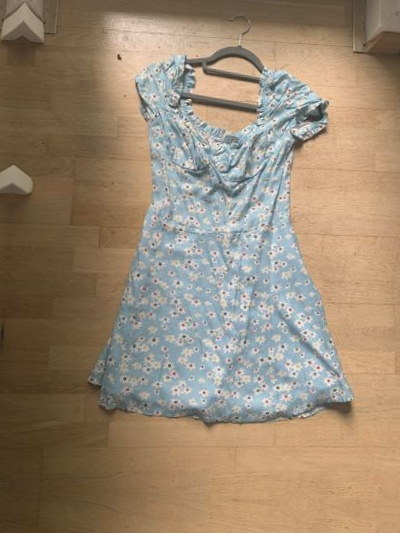Dress: (23, 14, 400, 461)
